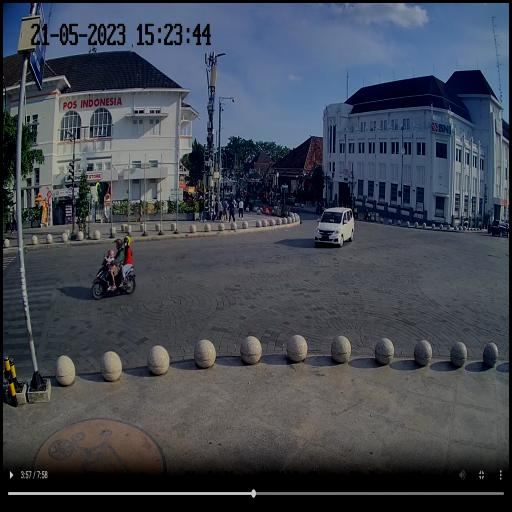mobil: (316, 208, 355, 246)
motor: (91, 248, 137, 302)
